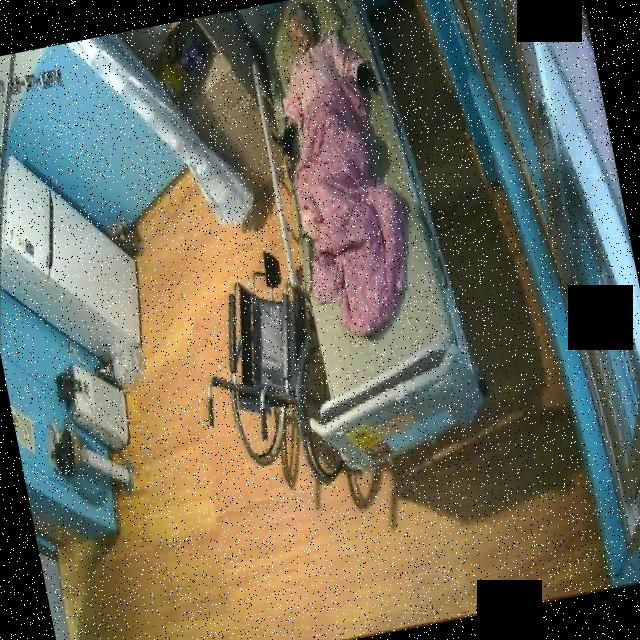bed: (243, 0, 488, 469)
lie: (254, 0, 427, 349)
patient: (249, 0, 388, 156)
